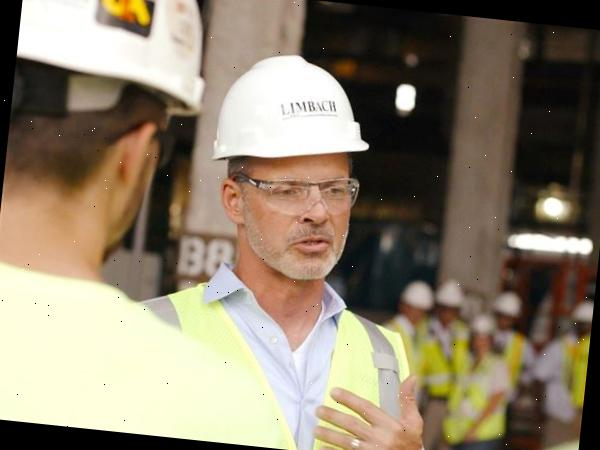helmet: (12, 0, 216, 118), (207, 46, 380, 180)
wear: (110, 291, 412, 450)
